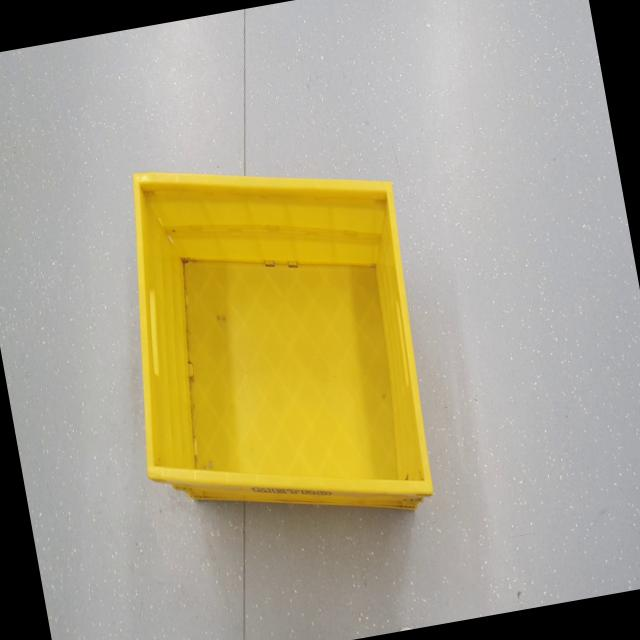box: (88, 97, 457, 590)
